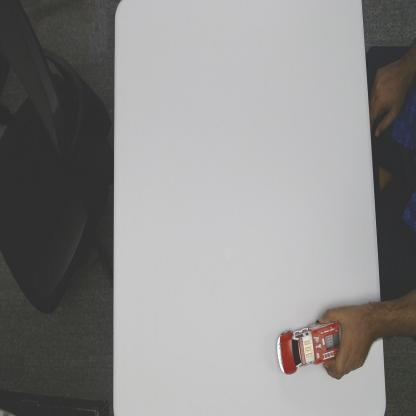Firetruck: (275, 318, 341, 374)
Hand: (315, 297, 382, 382)
